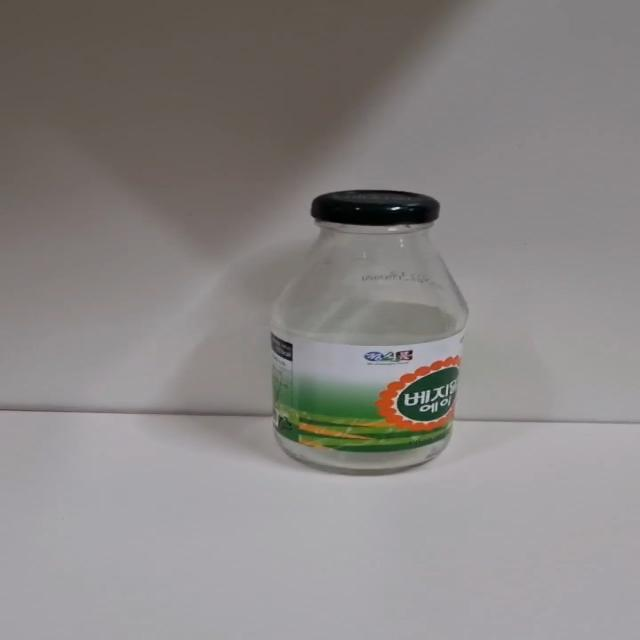Glass: (268, 190, 471, 478)
